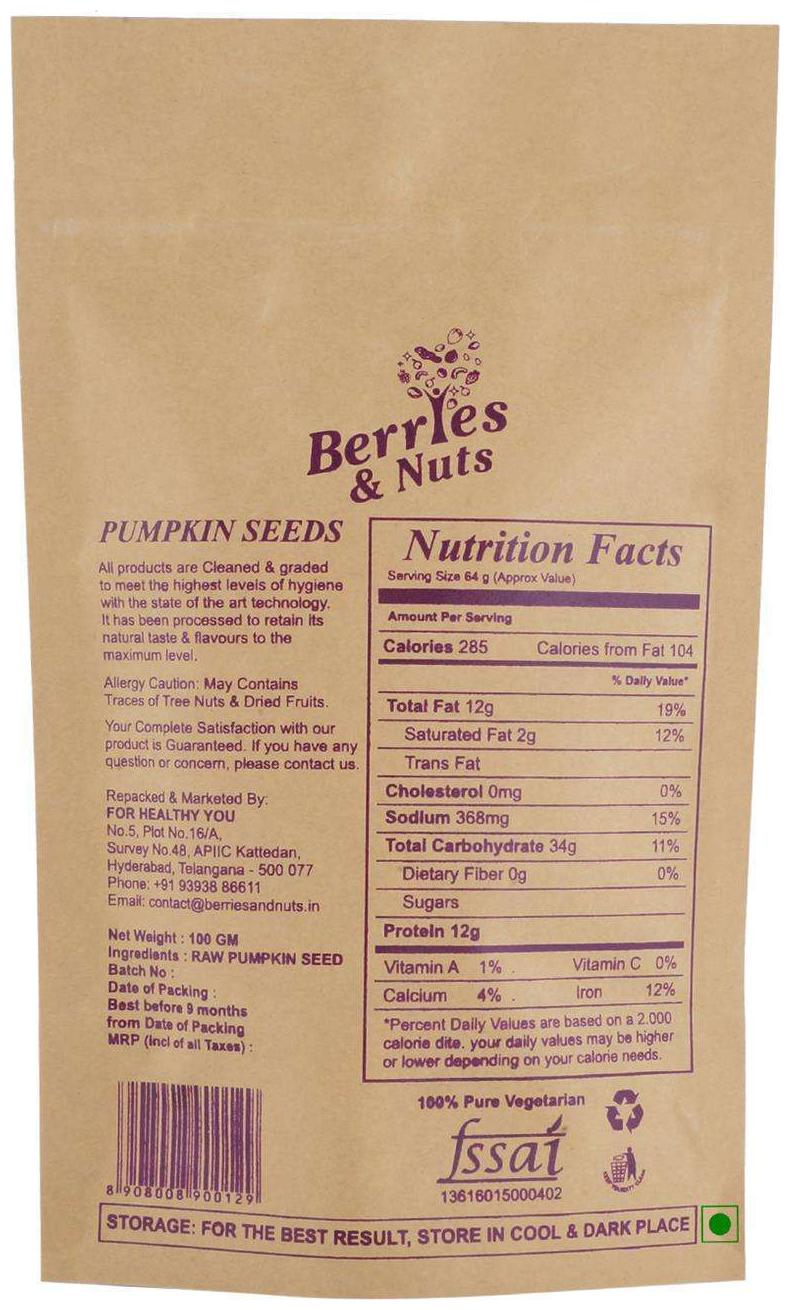fssai: (438, 1115, 574, 1186)
